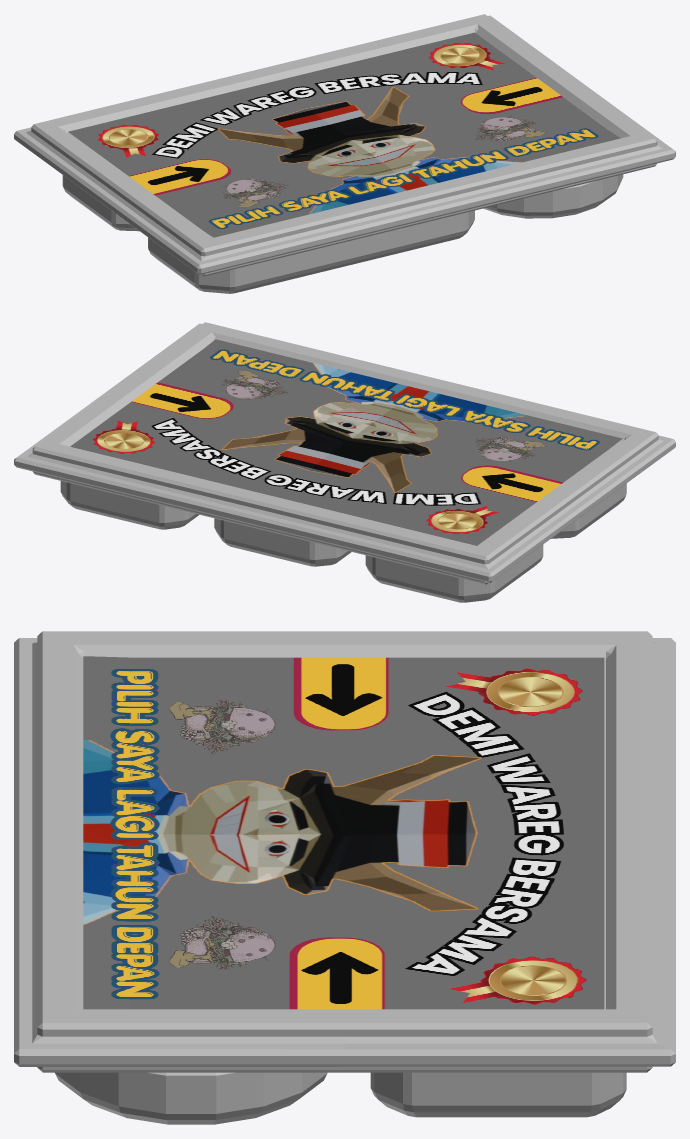
File: OMPRENG MBG.fbx
3 views of the same model, one above another, from view 1: azimuth 30°, elevation 25°; view 2: azimuth 150°, elevation 25°; view 3: azimuth 270°, elevation 25° (orthographic). The views are drawn at different scales.
Parts seen in each view (by area): view 1: Ungu dan Hijau Modern Makanan Bergizi Gratis Presentasi.001, Cube; view 2: Ungu dan Hijau Modern Makanan Bergizi Gratis Presentasi.001, Cube; view 3: Ungu dan Hijau Modern Makanan Bergizi Gratis Presentasi.001, Cube.
Part boxes in pixels (bbox=[...]): Ungu dan Hijau Modern Makanan Bergizi Gratis Presentasi.001: bbox=[68, 32, 620, 237]; Cube: bbox=[14, 14, 675, 293]; Ungu dan Hijau Modern Makanan Bergizi Gratis Presentasi.001: bbox=[70, 339, 622, 545]; Cube: bbox=[14, 322, 675, 602]; Ungu dan Hijau Modern Makanan Bergizi Gratis Presentasi.001: bbox=[83, 656, 604, 1009]; Cube: bbox=[14, 631, 675, 1124].
Size of the model in its own units: 3979 by 507 by 2679.
Materials: 2 (1 with a texture image).
